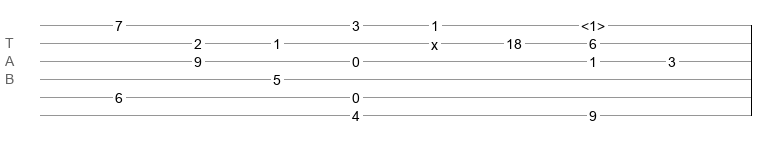0: (352, 90, 360, 100), (352, 54, 360, 64)
1: (273, 36, 281, 46), (431, 18, 439, 28), (589, 54, 597, 64)
18: (506, 36, 522, 46)
2: (194, 36, 202, 46)
3: (352, 18, 360, 28), (668, 54, 676, 64)
4: (352, 108, 360, 118)
5: (273, 72, 281, 82)
6: (115, 90, 123, 100), (589, 36, 597, 46)
7: (115, 18, 123, 28)
9: (194, 54, 202, 64), (589, 108, 597, 118)
harmonic: (581, 18, 605, 28)
x: (431, 37, 438, 45)
